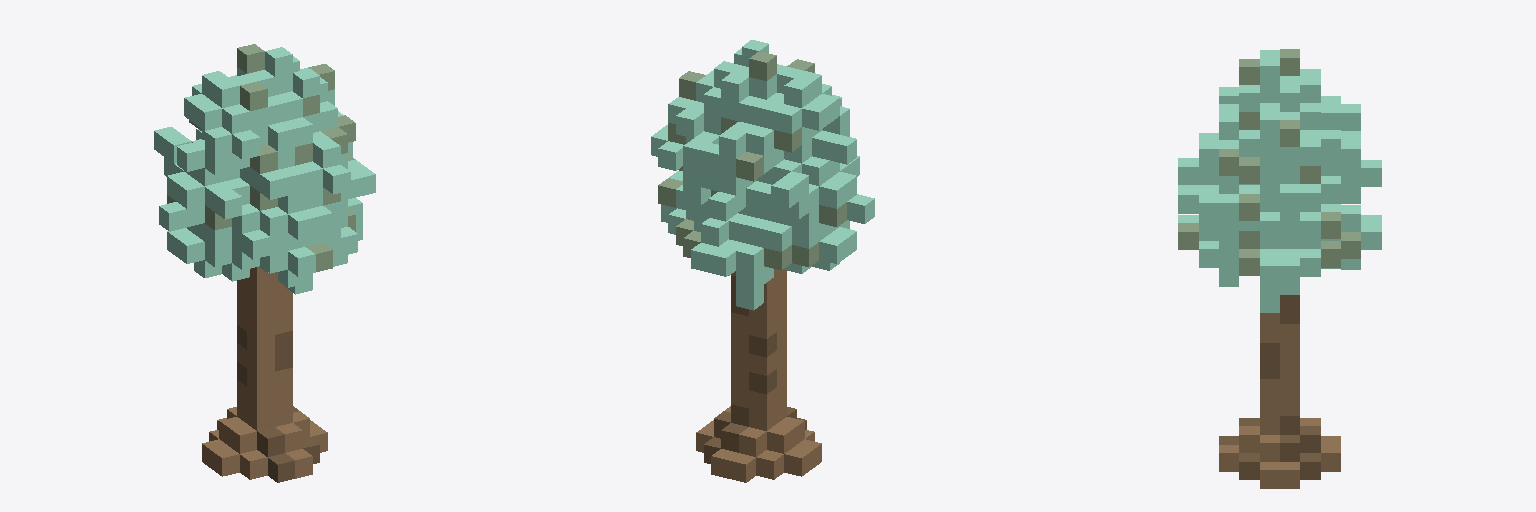
3 renders of one model, left to right at view 1: azimuth 30°, elevation 25°; view 2: azimuth 150°, elevation 25°; view 3: azimuth 270°, elevation 25°, orthographic.
Visible parts, largest first — view 1: object 1; view 2: object 1; view 3: object 1.
Boxes of the visible parts, x1,y1,x2,y2 form: object 1: [154, 44, 375, 482]; object 1: [651, 40, 874, 482]; object 1: [1178, 49, 1381, 488].
Size of the model in its own units: 1.1 by 2.2 by 1.
1 materials, 1 textured.